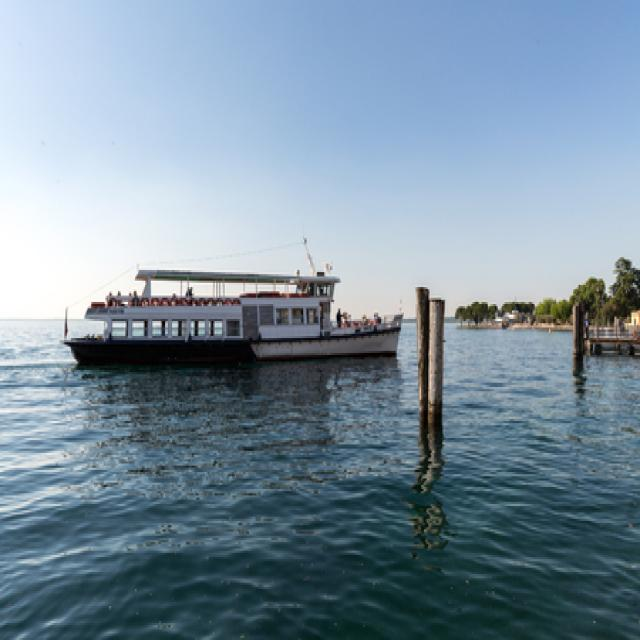passenger ship: (66, 253, 405, 370)
